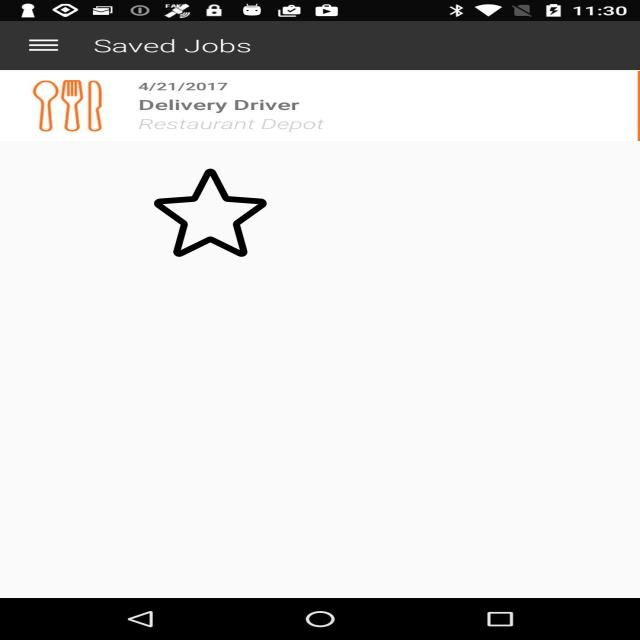forced continuity: (154, 166, 267, 258)
